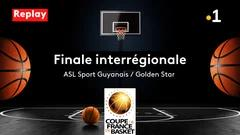basketball: (208, 37, 240, 97), (0, 37, 30, 100), (108, 92, 131, 115), (82, 106, 100, 127)
